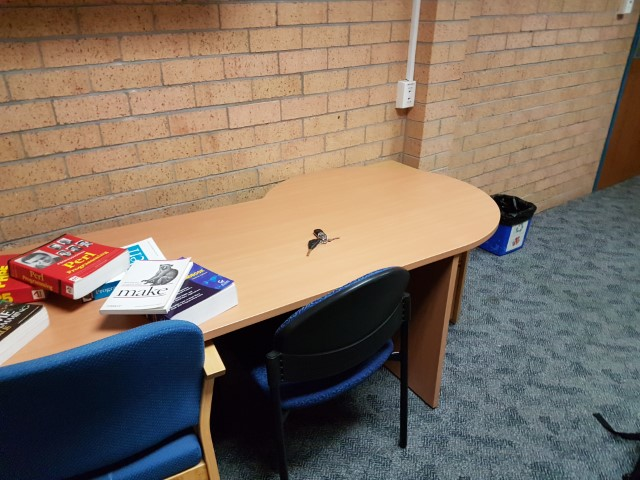key: (304, 238, 320, 257)
